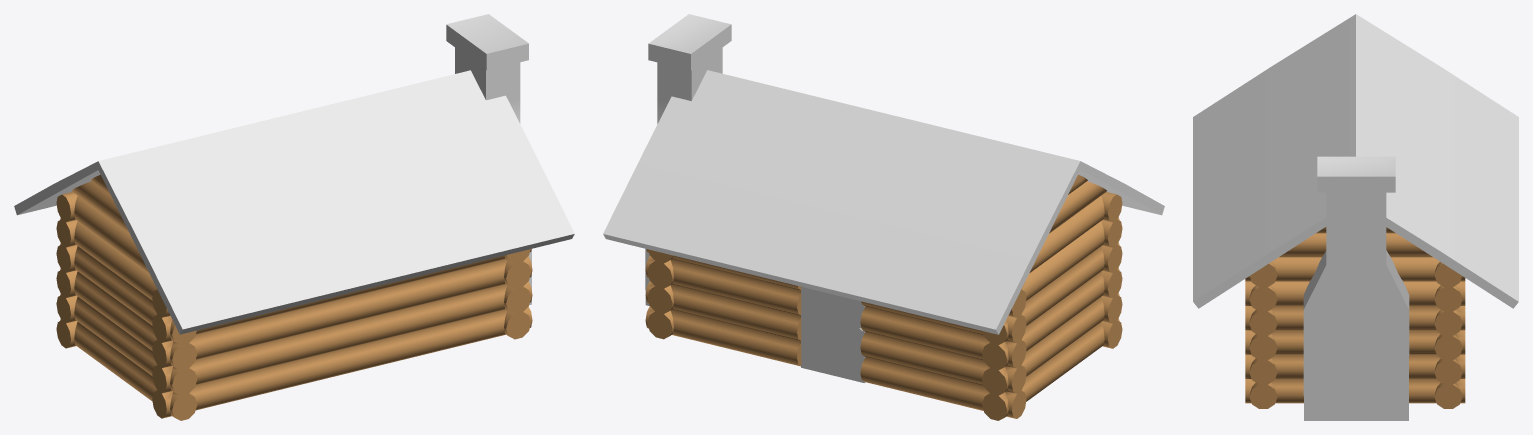
The model's file is Cabin_low.fbx.
3 views of the same model, side by side, from view 1: azimuth 30°, elevation 25°; view 2: azimuth 150°, elevation 25°; view 3: azimuth 270°, elevation 25° (orthographic). The views are drawn at different scales.
Parts seen in each view (by area): view 1: rOOF, WallTop.001, Walls, cHIMNEY, Walls.001, WallDoor; view 2: rOOF, WallDoor, Walls, cHIMNEY, Door.001, Walls.001, WallTop.001; view 3: rOOF, cHIMNEY, Walls, Walls.001, WallTop.001, WallDoor, WallTop.002, WallTop.
Boxes of the visible parts, x1=… form: rOOF: x1=14, y1=70, x2=574, y2=334; WallTop.001: x1=152, y1=249, x2=532, y2=418; Walls: x1=60, y1=218, x2=531, y2=420; cHIMNEY: x1=446, y1=14, x2=531, y2=304; Walls.001: x1=72, y1=174, x2=148, y2=272; WallDoor: x1=56, y1=244, x2=77, y2=348; rOOF: x1=603, y1=70, x2=1164, y2=334; WallDoor: x1=645, y1=249, x2=1026, y2=418; Walls: x1=647, y1=217, x2=1119, y2=420; cHIMNEY: x1=645, y1=14, x2=731, y2=305; Door.001: x1=801, y1=287, x2=865, y2=382; Walls.001: x1=1029, y1=174, x2=1106, y2=272; WallTop.001: x1=1101, y1=219, x2=1122, y2=348; rOOF: x1=1193, y1=14, x2=1518, y2=308; cHIMNEY: x1=1303, y1=156, x2=1409, y2=420; Walls: x1=1245, y1=281, x2=1465, y2=403; Walls.001: x1=1245, y1=227, x2=1465, y2=281; WallTop.001: x1=1249, y1=285, x2=1277, y2=408; WallDoor: x1=1434, y1=310, x2=1462, y2=408; WallTop.002: x1=1249, y1=262, x2=1462, y2=287; WallTop: x1=1434, y1=285, x2=1462, y2=311.
Bounding box in the file's own units: 8.71 × 6.19 × 5.2.
